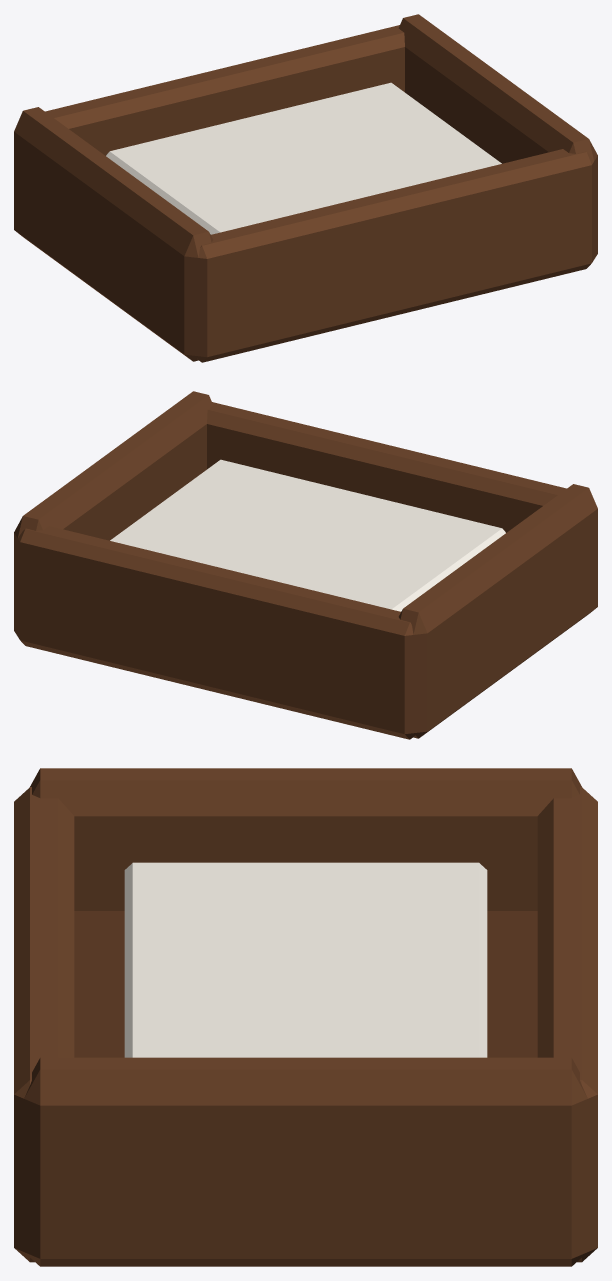
The model's file is discard_tray.glb.
3 views of the same model, one above another, from view 1: azimuth 30°, elevation 25°; view 2: azimuth 150°, elevation 25°; view 3: azimuth 270°, elevation 25° (orthographic). The views are drawn at different scales.
Visible parts, largest first — view 1: discard_tray; view 2: discard_tray; view 3: discard_tray.
Boxes of the visible parts, <box> form: discard_tray: <box>14,14,597,362</box>; discard_tray: <box>14,391,597,739</box>; discard_tray: <box>14,768,597,1266</box>.
Size of the model in its own units: 0.185 by 0.054 by 0.145.
